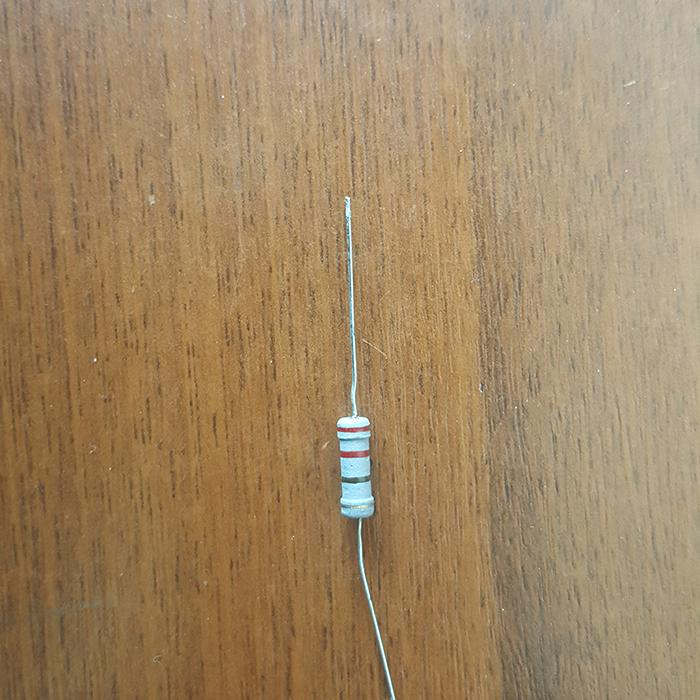resistor: (335, 415, 375, 518)
